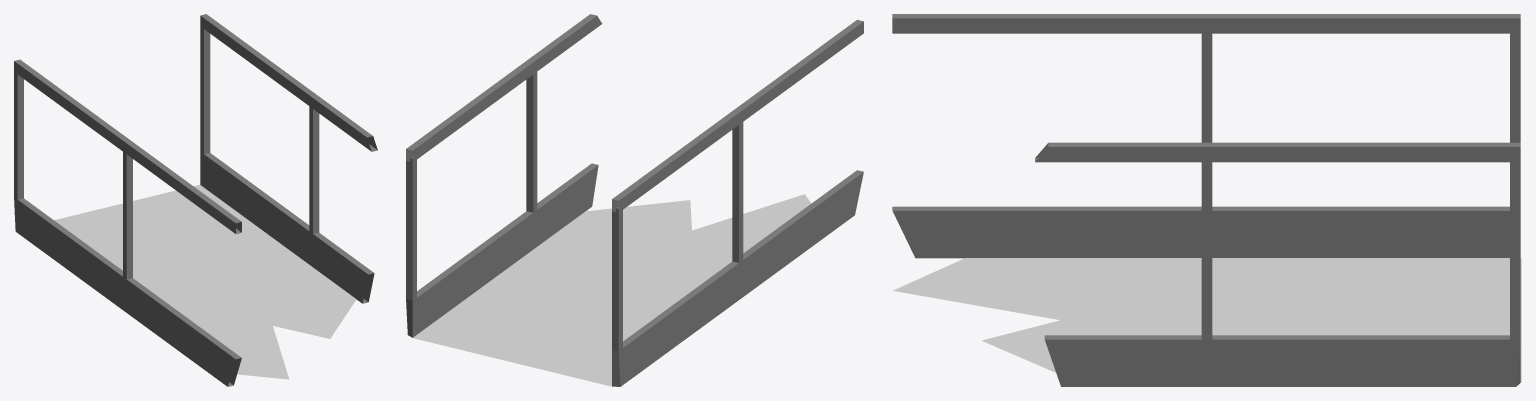
File: SM_RunwayBroken.fbx
3 views of the same model, side by side, from view 1: azimuth 30°, elevation 25°; view 2: azimuth 150°, elevation 25°; view 3: azimuth 270°, elevation 25° (orthographic). The views are drawn at different scales.
Parts seen in each view (by area): view 1: Cube.040; view 2: Cube.040; view 3: Cube.040.
Boxes of the visible parts, box(x1,y1,x2,y2) form: Cube.040: box(14, 14, 377, 386); Cube.040: box(406, 14, 863, 386); Cube.040: box(892, 14, 1521, 386).
Bounding box in the file's own units: 200 × 100 × 84.2.
